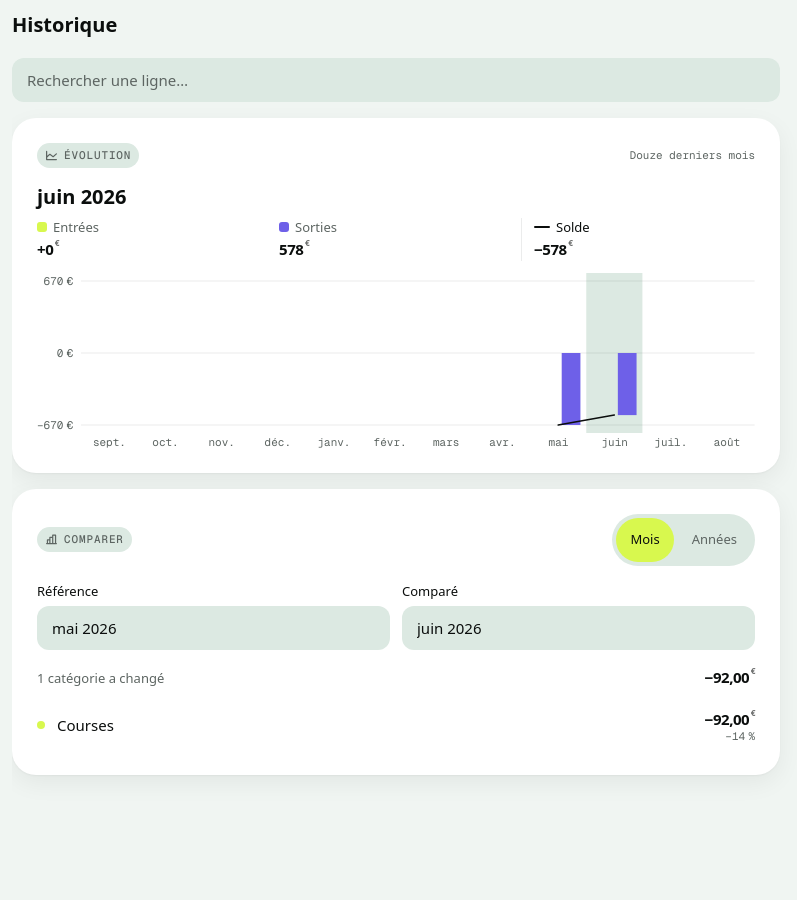
l’écran Historique › bascule d’une comparaison à l’autre sans les montrer ensemble
Expected: the dropdown labelled "Référence" is shown, x1=37 y1=606 x2=390 y2=650
Click the radio button labelled "Années" at (714, 540), box x1=678 y1=518 x2=751 y2=562
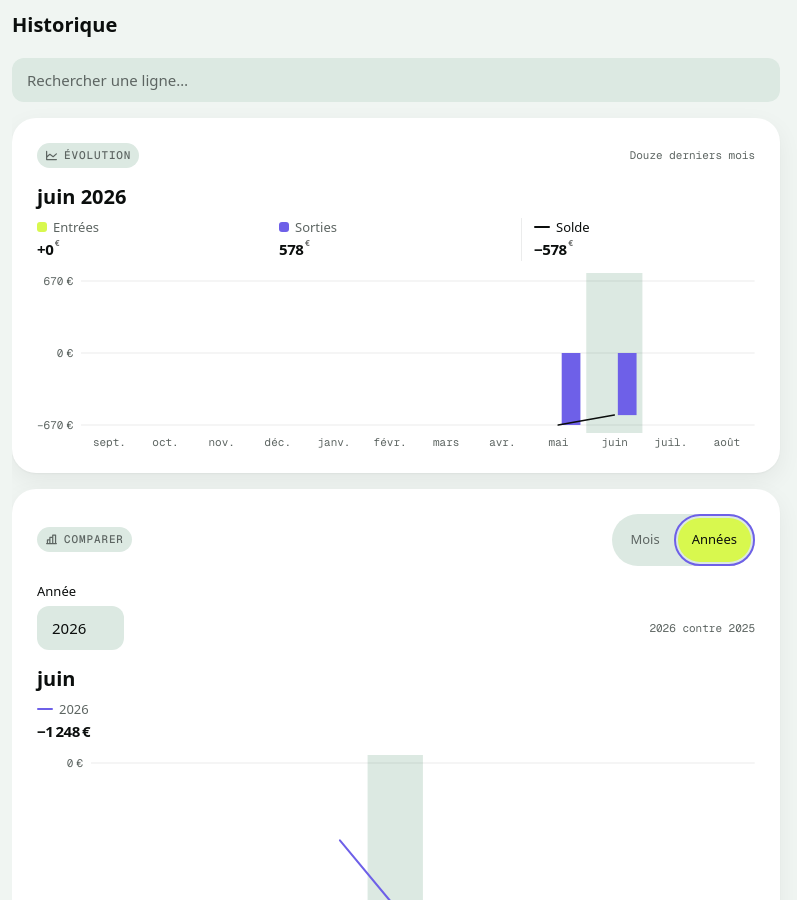
Expected: the dropdown labelled "Année" is shown, x1=37 y1=606 x2=124 y2=650
Expected: the label labelled "Référence" is gone
